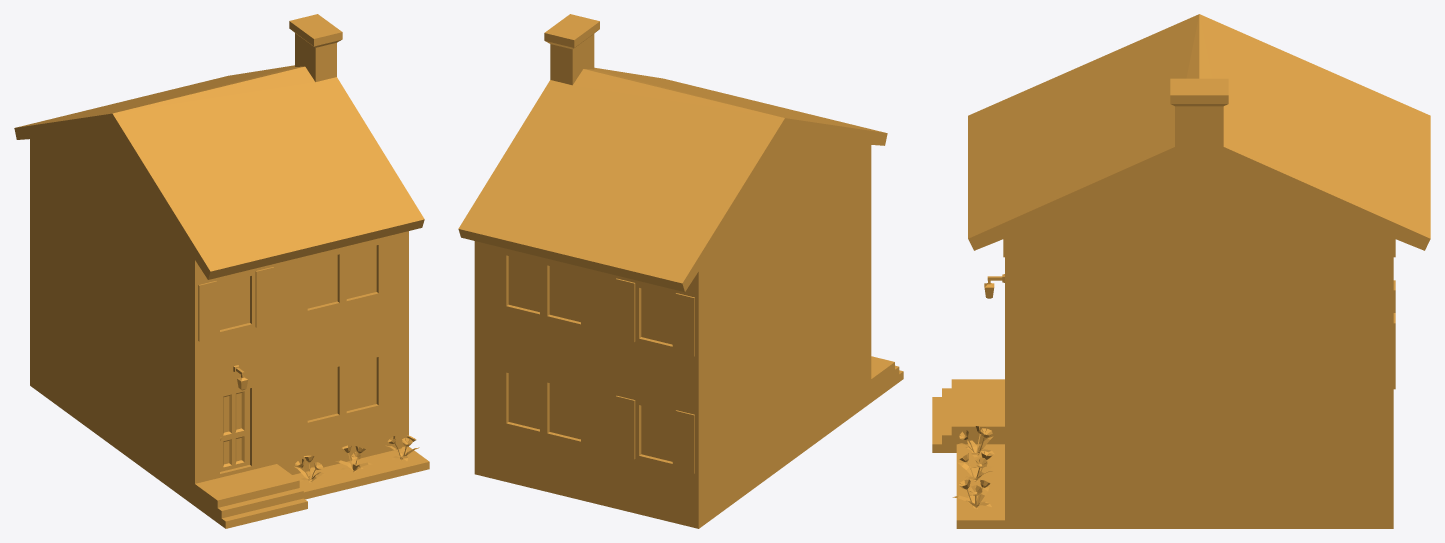
Rendered from building-house-block.fbx.
3 views of the same model, side by side, from view 1: azimuth 30°, elevation 25°; view 2: azimuth 150°, elevation 25°; view 3: azimuth 270°, elevation 25° (orthographic). The views are drawn at different scales.
Visible parts, largest first — view 1: building-house-block; view 2: building-house-block; view 3: building-house-block.
Part boxes in pixels (x1=…): building-house-block: x1=14, y1=14, x2=429, y2=528; building-house-block: x1=458, y1=14, x2=903, y2=528; building-house-block: x1=932, y1=14, x2=1430, y2=528.
Size of the model in its own units: 6.1 by 9.9 by 10.26.
